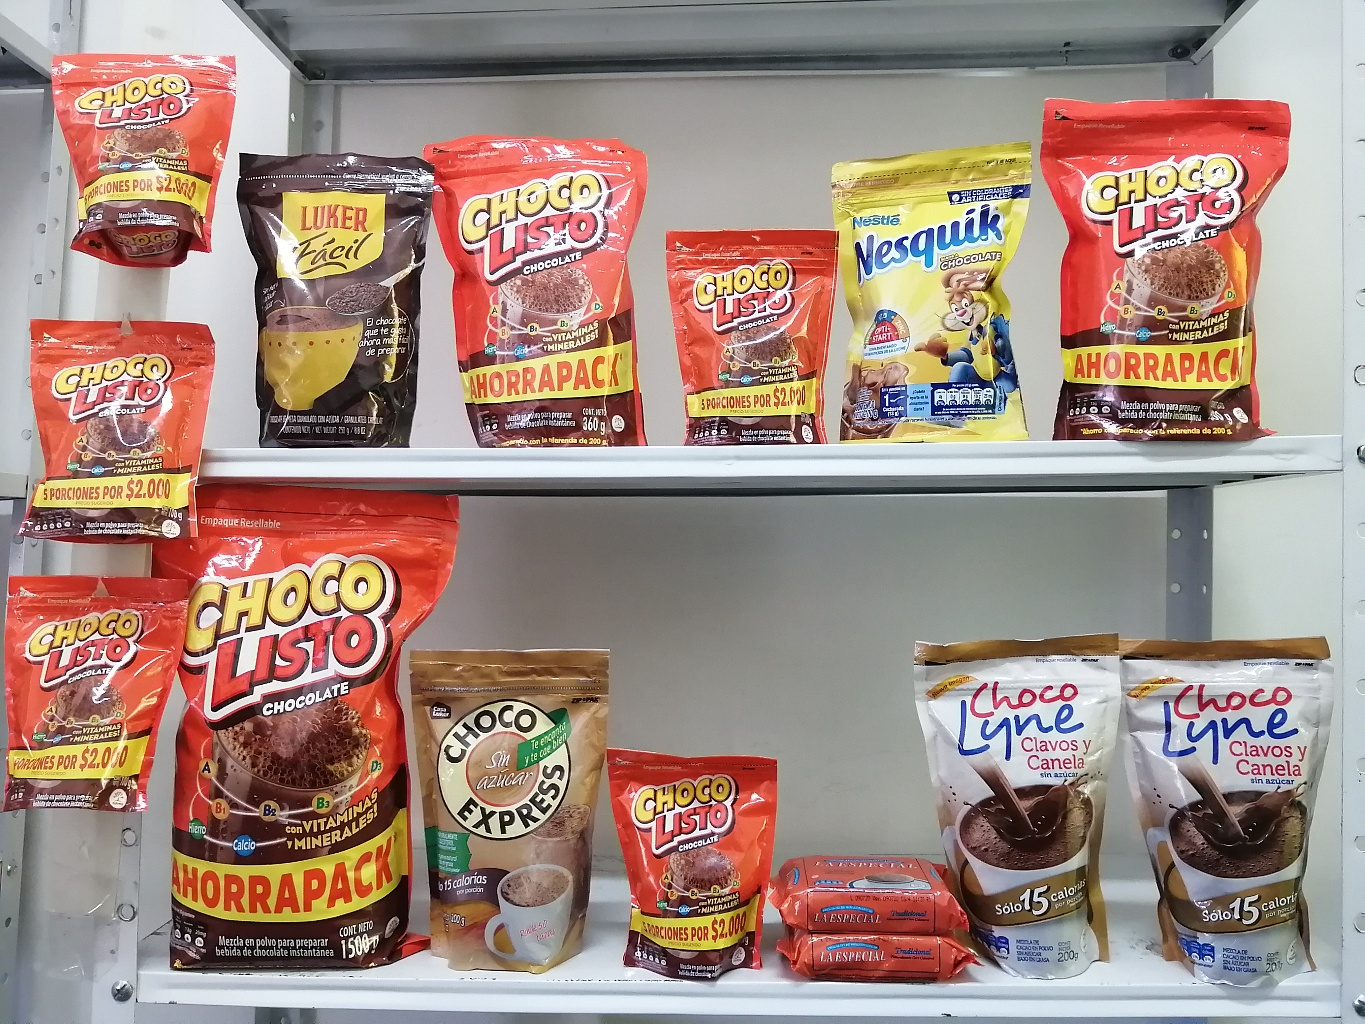COL0170103DYP1,500: (158, 480, 454, 971)
COL0170103DYP10000: (47, 49, 238, 268)
COL0170103DYP36000: (422, 133, 653, 449)
COL0170103DYP40000: (1043, 96, 1286, 441)
COL0170303DYP20000: (826, 143, 1046, 438)
